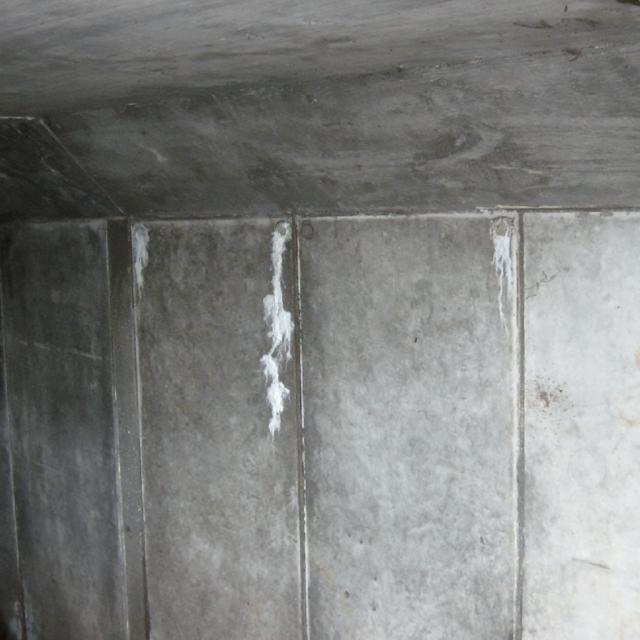D01: (262, 222, 292, 437)
